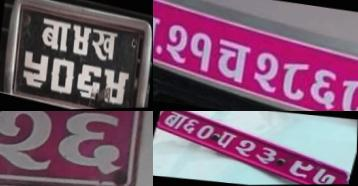0: (48, 53, 77, 100), (195, 125, 214, 140)
1: (183, 23, 218, 76)
2: (0, 111, 65, 178), (250, 43, 287, 96), (159, 17, 194, 69), (234, 139, 256, 156)
3: (255, 148, 278, 164)
4: (100, 64, 132, 109), (68, 18, 93, 63)
5: (18, 44, 52, 94)
6: (52, 111, 134, 182), (306, 59, 345, 111), (74, 59, 104, 106), (184, 119, 199, 133)
7: (311, 167, 337, 184)
8: (276, 46, 315, 107), (334, 67, 358, 111)
9: (288, 160, 314, 179)
ba: (38, 11, 72, 57), (162, 111, 190, 131), (153, 4, 163, 57)
cha: (209, 34, 256, 86)
kha: (89, 23, 119, 66)
pa: (216, 130, 238, 150)
